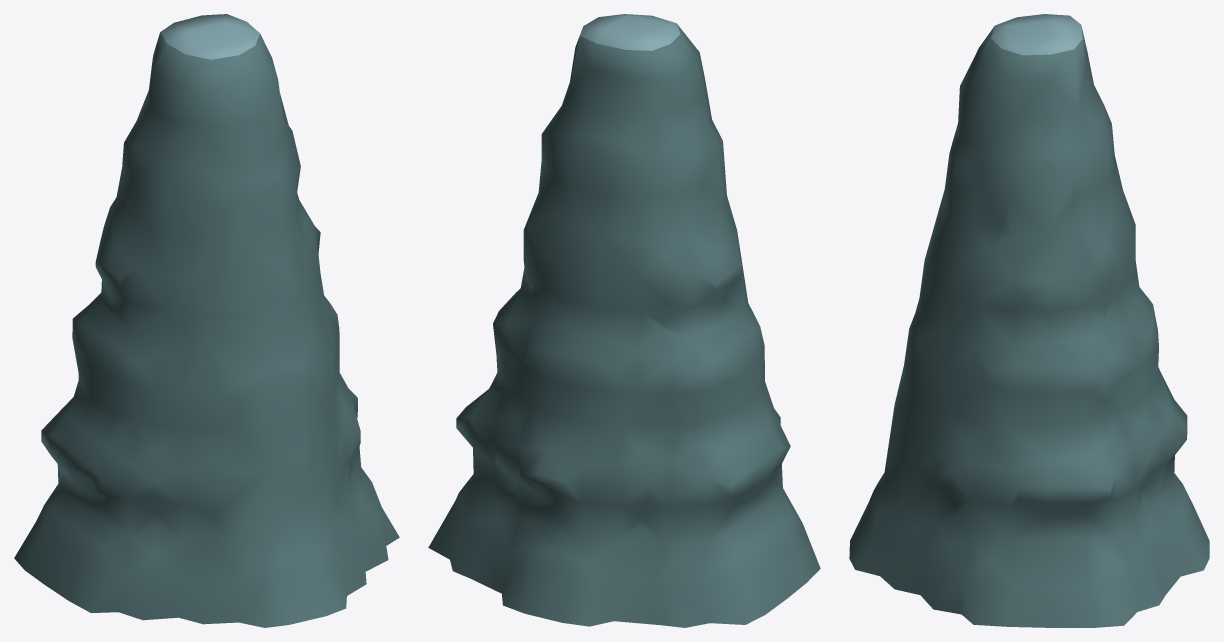
File: PillarRock.fbx
3 views of the same model, side by side, from view 1: azimuth 30°, elevation 25°; view 2: azimuth 150°, elevation 25°; view 3: azimuth 270°, elevation 25° (orthographic).
Visible parts, largest first — view 1: PillarRock; view 2: PillarRock; view 3: PillarRock.
Part boxes in pixels (box(x1,y1,x2,y2)): PillarRock: box(14, 14, 399, 627); PillarRock: box(428, 14, 820, 627); PillarRock: box(849, 14, 1209, 627).
Bounding box in the file's own units: 3.6 × 3.5 × 5.58.
